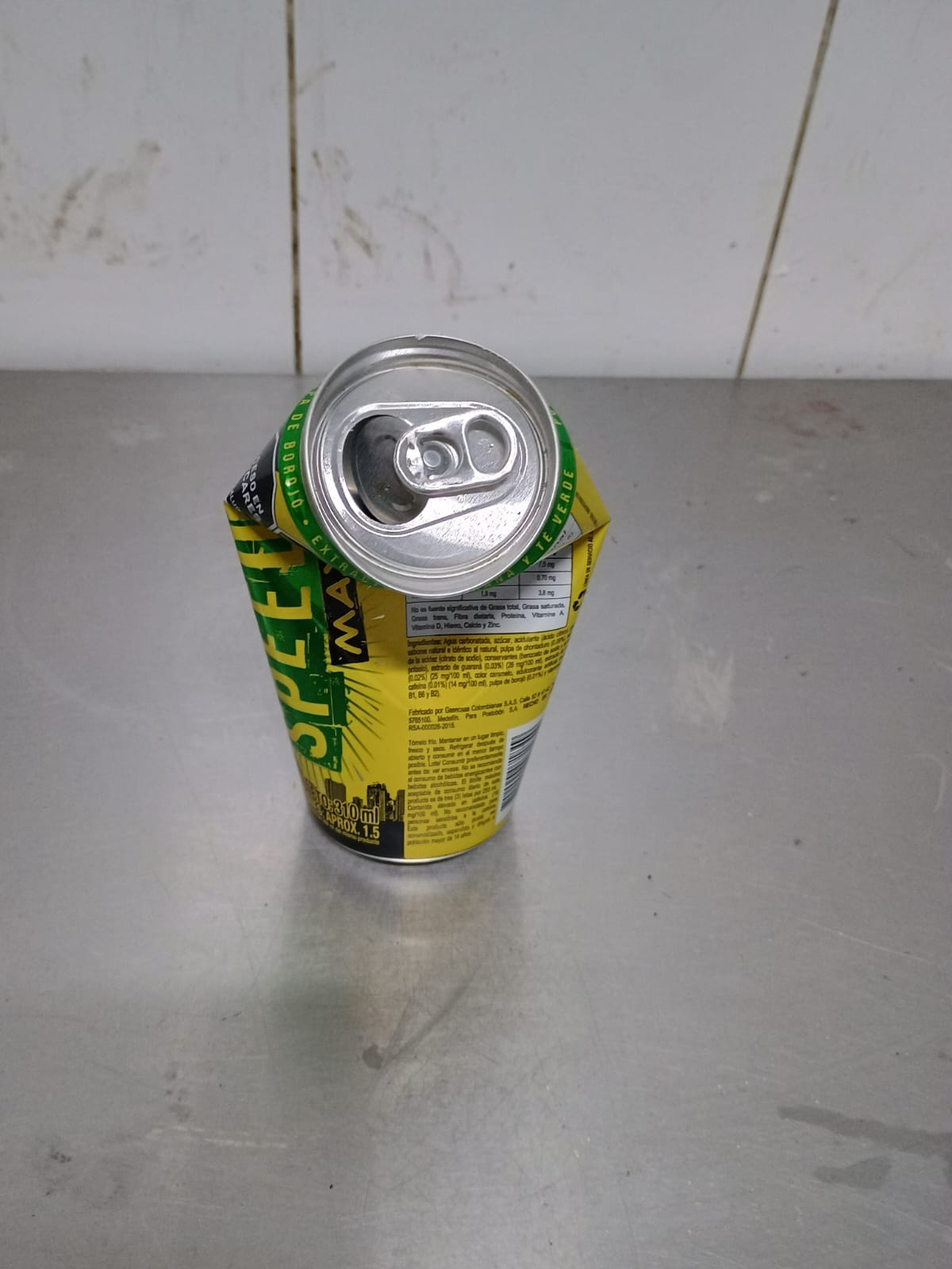Metal: (223, 335, 607, 867)
